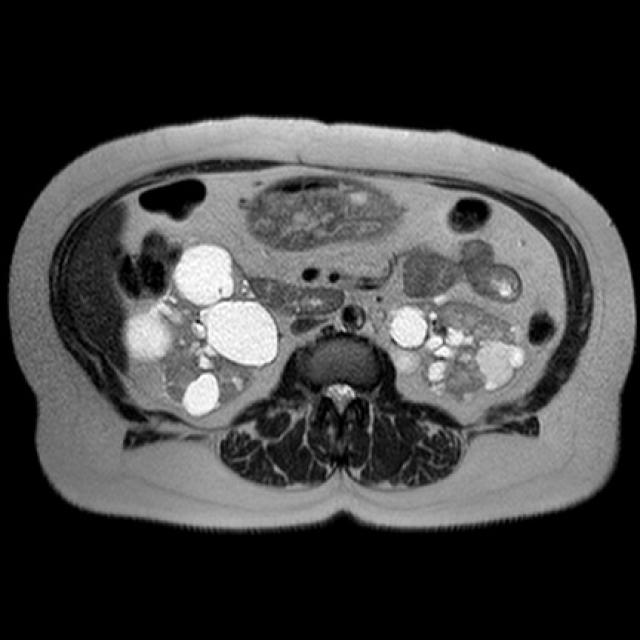sag: (121, 240, 282, 417)
sol: (387, 294, 525, 400)
